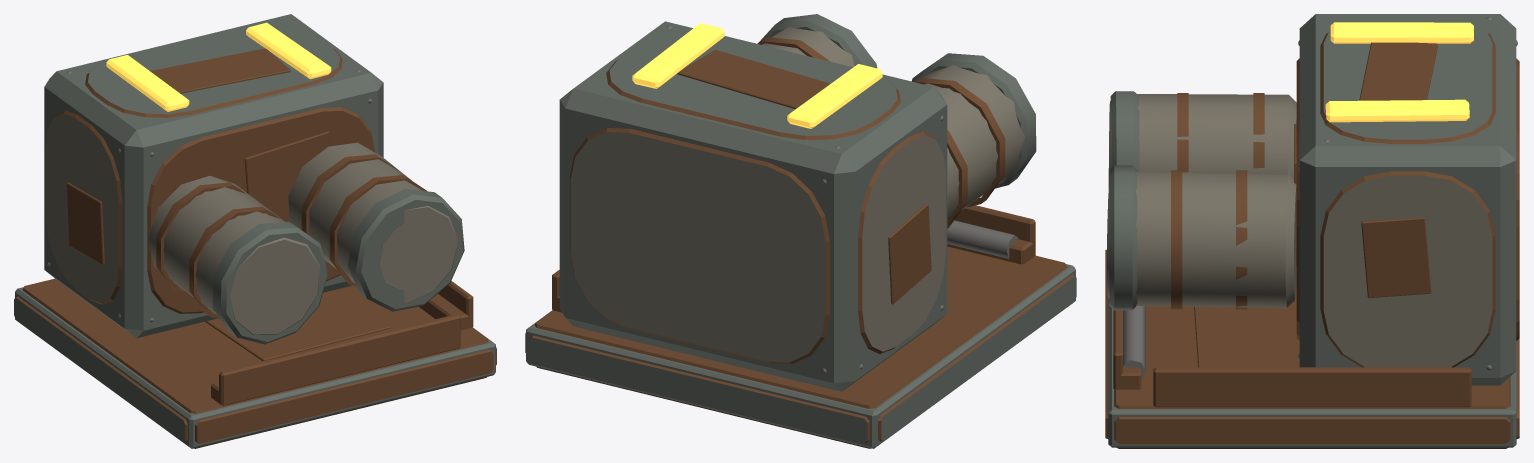
Rendered from R4X_DoubleShotPassive.fbx.
3 views of the same model, side by side, from view 1: azimuth 30°, elevation 25°; view 2: azimuth 150°, elevation 25°; view 3: azimuth 270°, elevation 25° (orthographic). The views are drawn at different scales.
Visible parts, largest first — view 1: R4X_DoubleShotPassive_Body; view 2: R4X_DoubleShotPassive_Body; view 3: R4X_DoubleShotPassive_Body.
Part boxes in pixels (x1,y1,x2,y2): R4X_DoubleShotPassive_Body: (14,14,496,448); R4X_DoubleShotPassive_Body: (525,14,1076,448); R4X_DoubleShotPassive_Body: (1105,14,1519,448).
Size of the model in its own units: 0.52 by 0.415 by 0.52.
